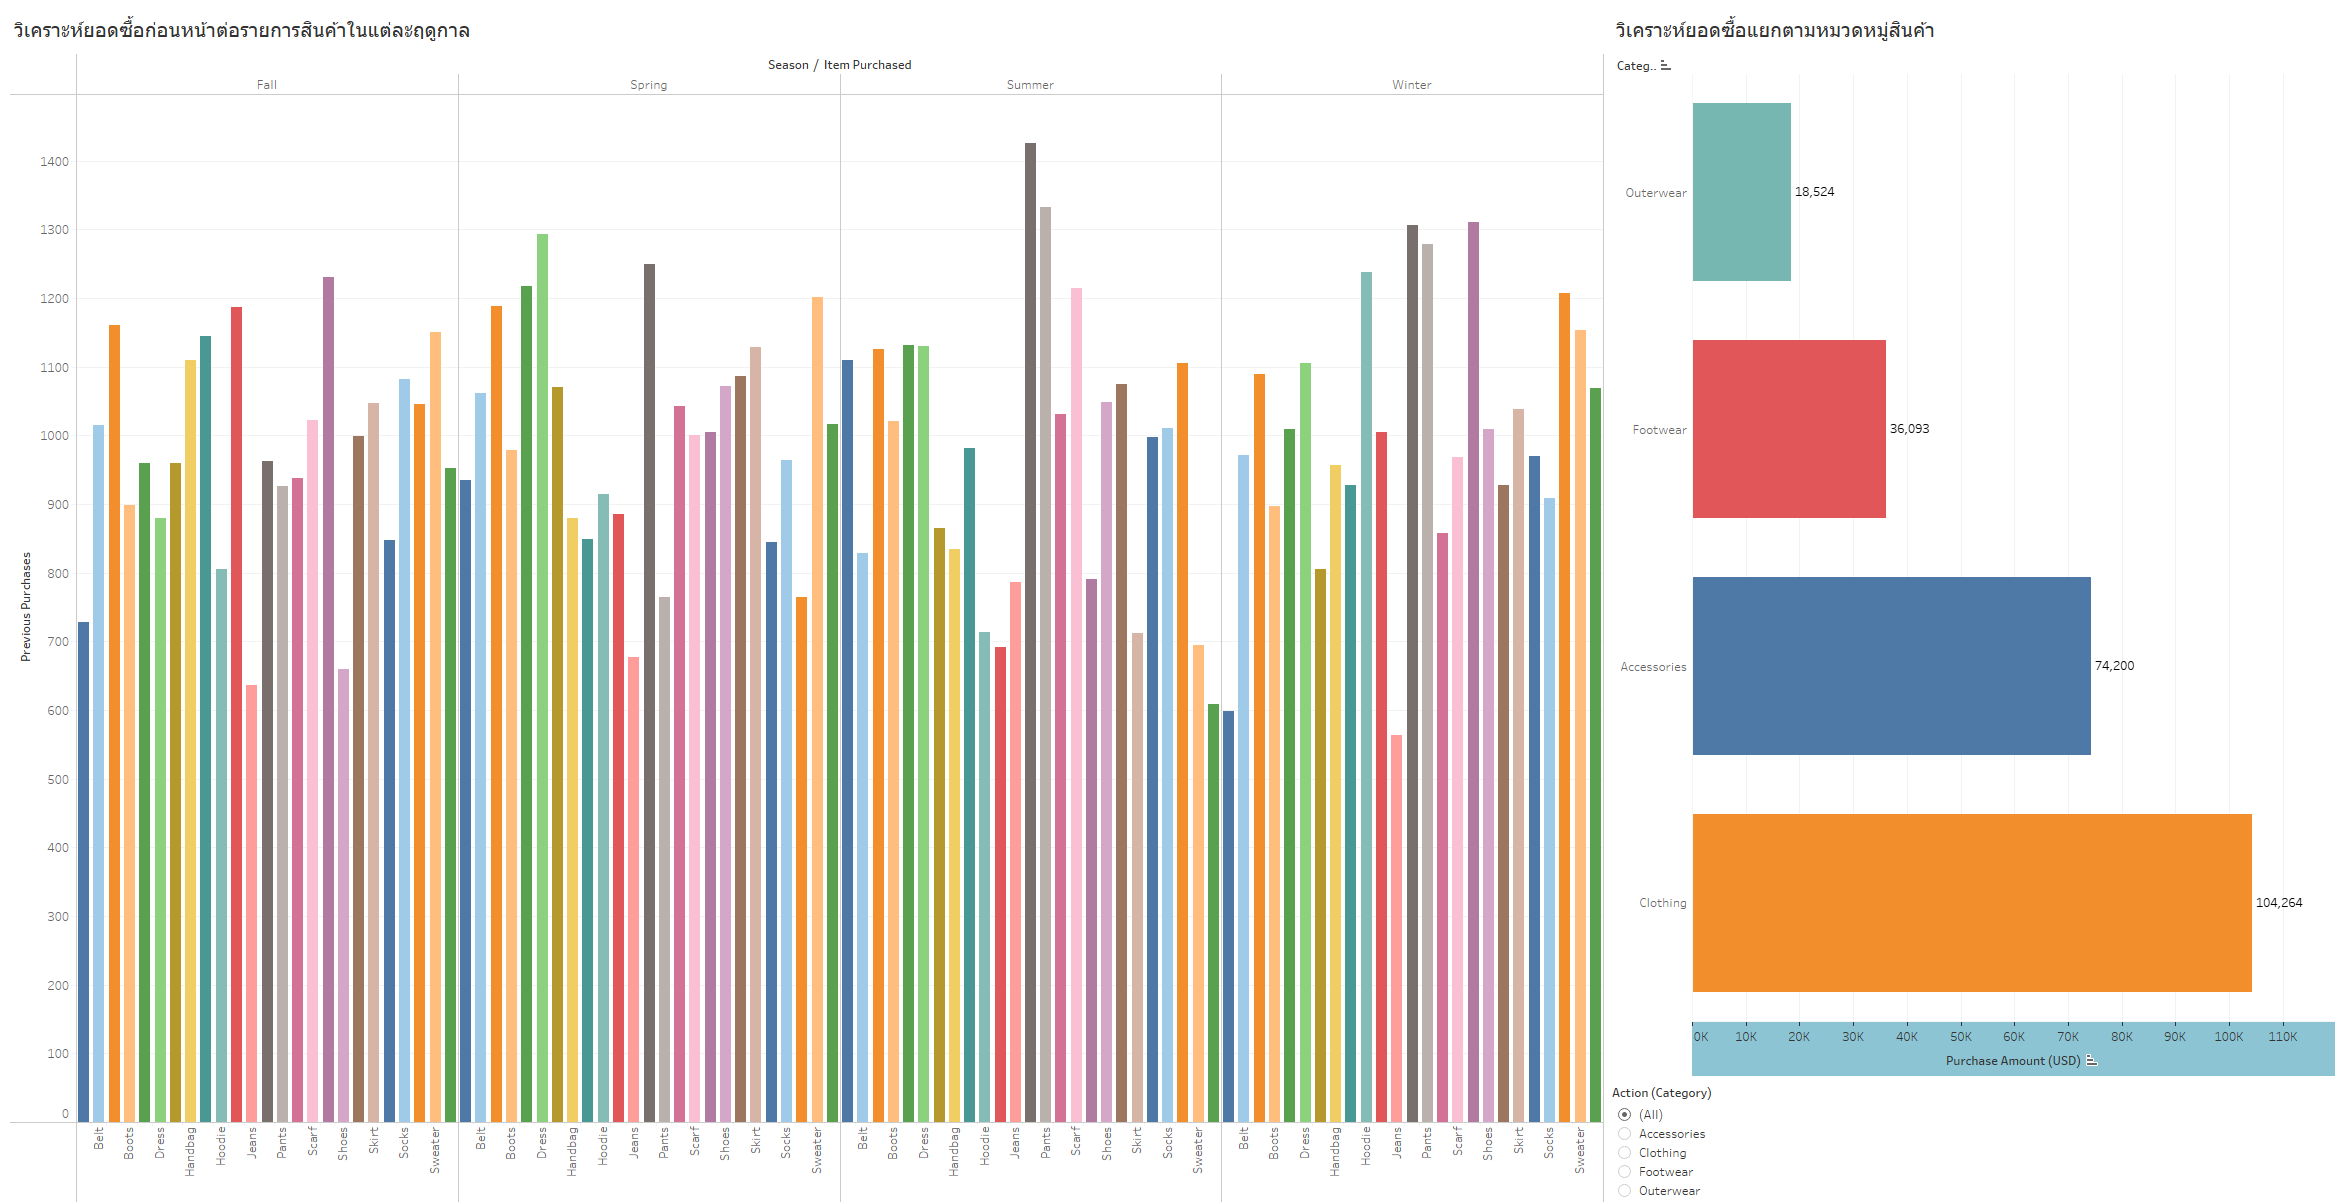

The dashboard page shown, as its layout file describes it:
{"tool":"tableau","page":{"name":"Dashboard 2","canvas":[1000,1000],"units":"permille","ordinal":1},"visuals":[{"type":"worksheet","title":"วิเคราะห์ยอดซื้อก่อนหน้าต่อรายการสินค้าในแต่ละฤดูกาล","mark":"Bar","rows":["Previous Purchases"],"cols":["Season","Item Purchased"],"box":[3.4,6.6,682,986.8]},{"type":"worksheet","title":"วิเคราะห์ยอดซื้อแยกตามหมวดหมู่สินค้า ","mark":"Automatic","rows":["Category"],"cols":["Purchase Amount (USD)"],"box":[685.4,6.6,311.2,882.4]},{"type":"filter","title":"วิเคราะห์ยอดซื้อก่อนหน้าต่อรายการสินค้าในแต่ละฤดูกาล","param":"[federated.11hsf2v1nlk38x16g2n620yzph1f].[Action (Category)]","box":[685.4,889,311.2,104.4]}]}

Visuals, with their boxes on the dashboard's canvas, which has no fixed pixel size, in thousandths of its width and height (x1, y1, x2, y2). These are canvas units, not pixel positions in the 2347x1203 screenshot, which may show the page scaled, cropped or inside an application window:
"วิเคราะห์ยอดซื้อก่อนหน้าต่อรายการสินค้าในแต่ละฤดูกาล" worksheet (Bar marks): 3/7/685/993
"วิเคราะห์ยอดซื้อแยกตามหมวดหมู่สินค้า " worksheet: 685/7/997/889
"วิเคราะห์ยอดซื้อก่อนหน้าต่อรายการสินค้าในแต่ละฤดูกาล" filter: 685/889/997/993
